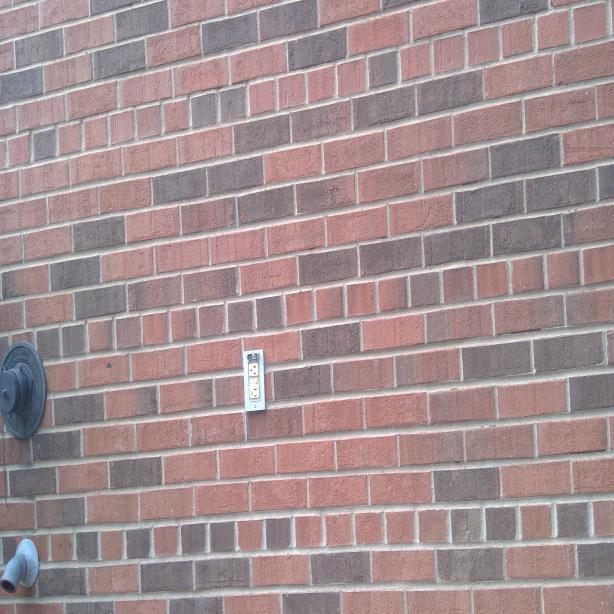typeb: (248, 385, 260, 400), (248, 363, 259, 376)
